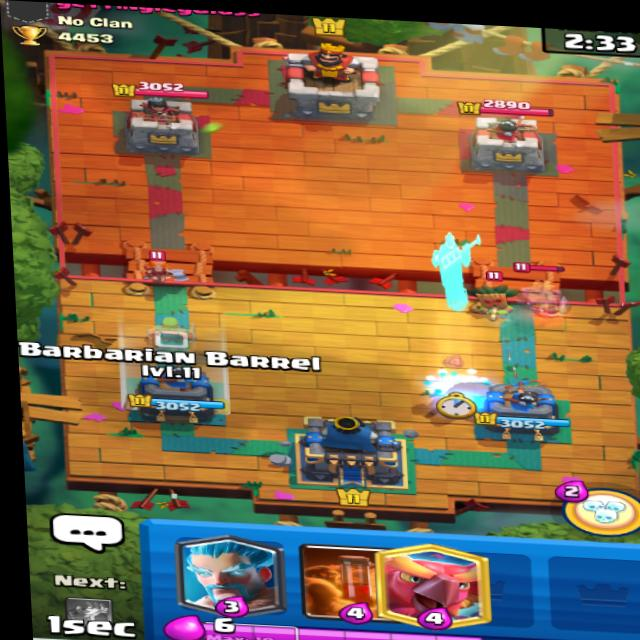dart-goblin: (462, 269, 521, 320)
royal-ghost: (512, 267, 573, 327)
valkyrie: (116, 243, 192, 295)
